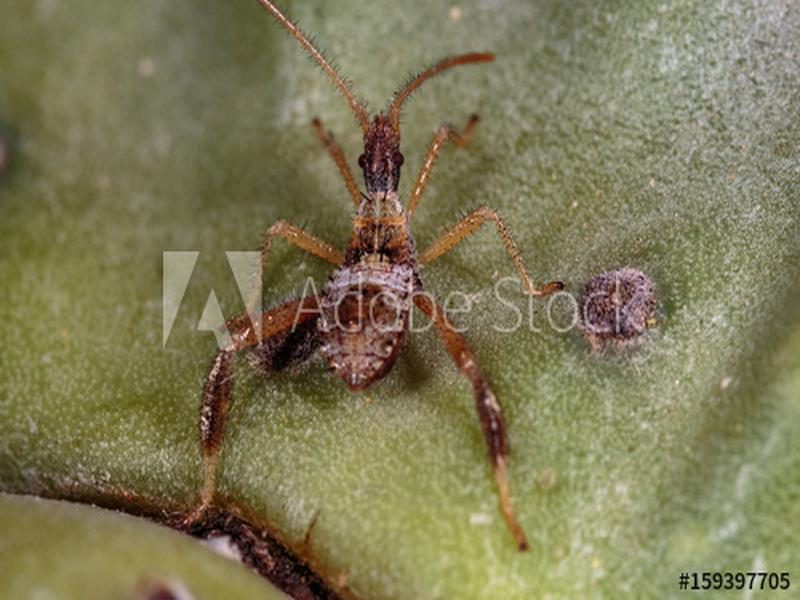Spiny_beetle: (170, 89, 589, 546)
